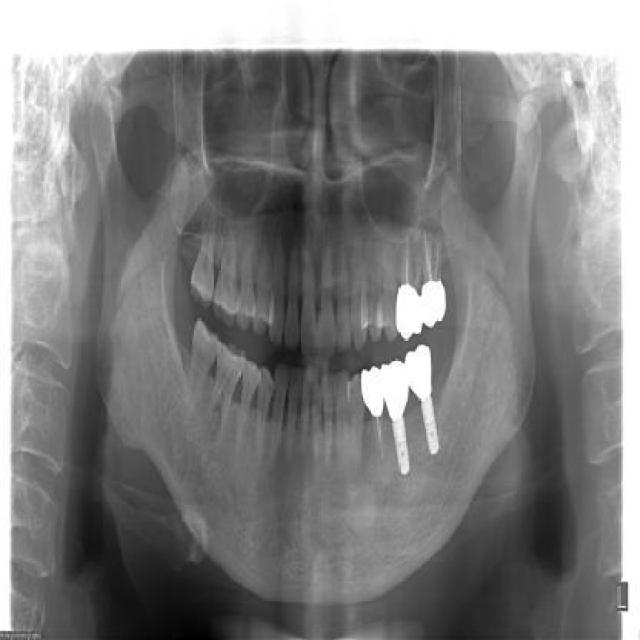implant: (405, 344, 445, 455), (382, 362, 414, 474)
kanal-tedavisi: (423, 230, 443, 282), (397, 236, 418, 283), (371, 416, 387, 464)
kaplama: (393, 283, 426, 338), (421, 276, 450, 330), (362, 361, 386, 420)
